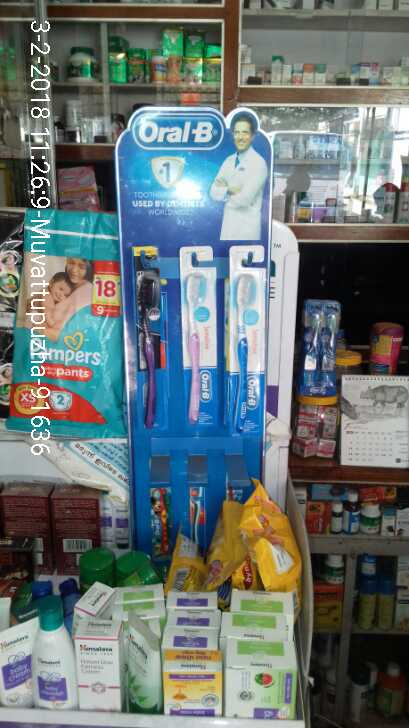pharmacy: (12, 224, 133, 446), (172, 264, 215, 431), (133, 270, 171, 431), (238, 273, 262, 426)
